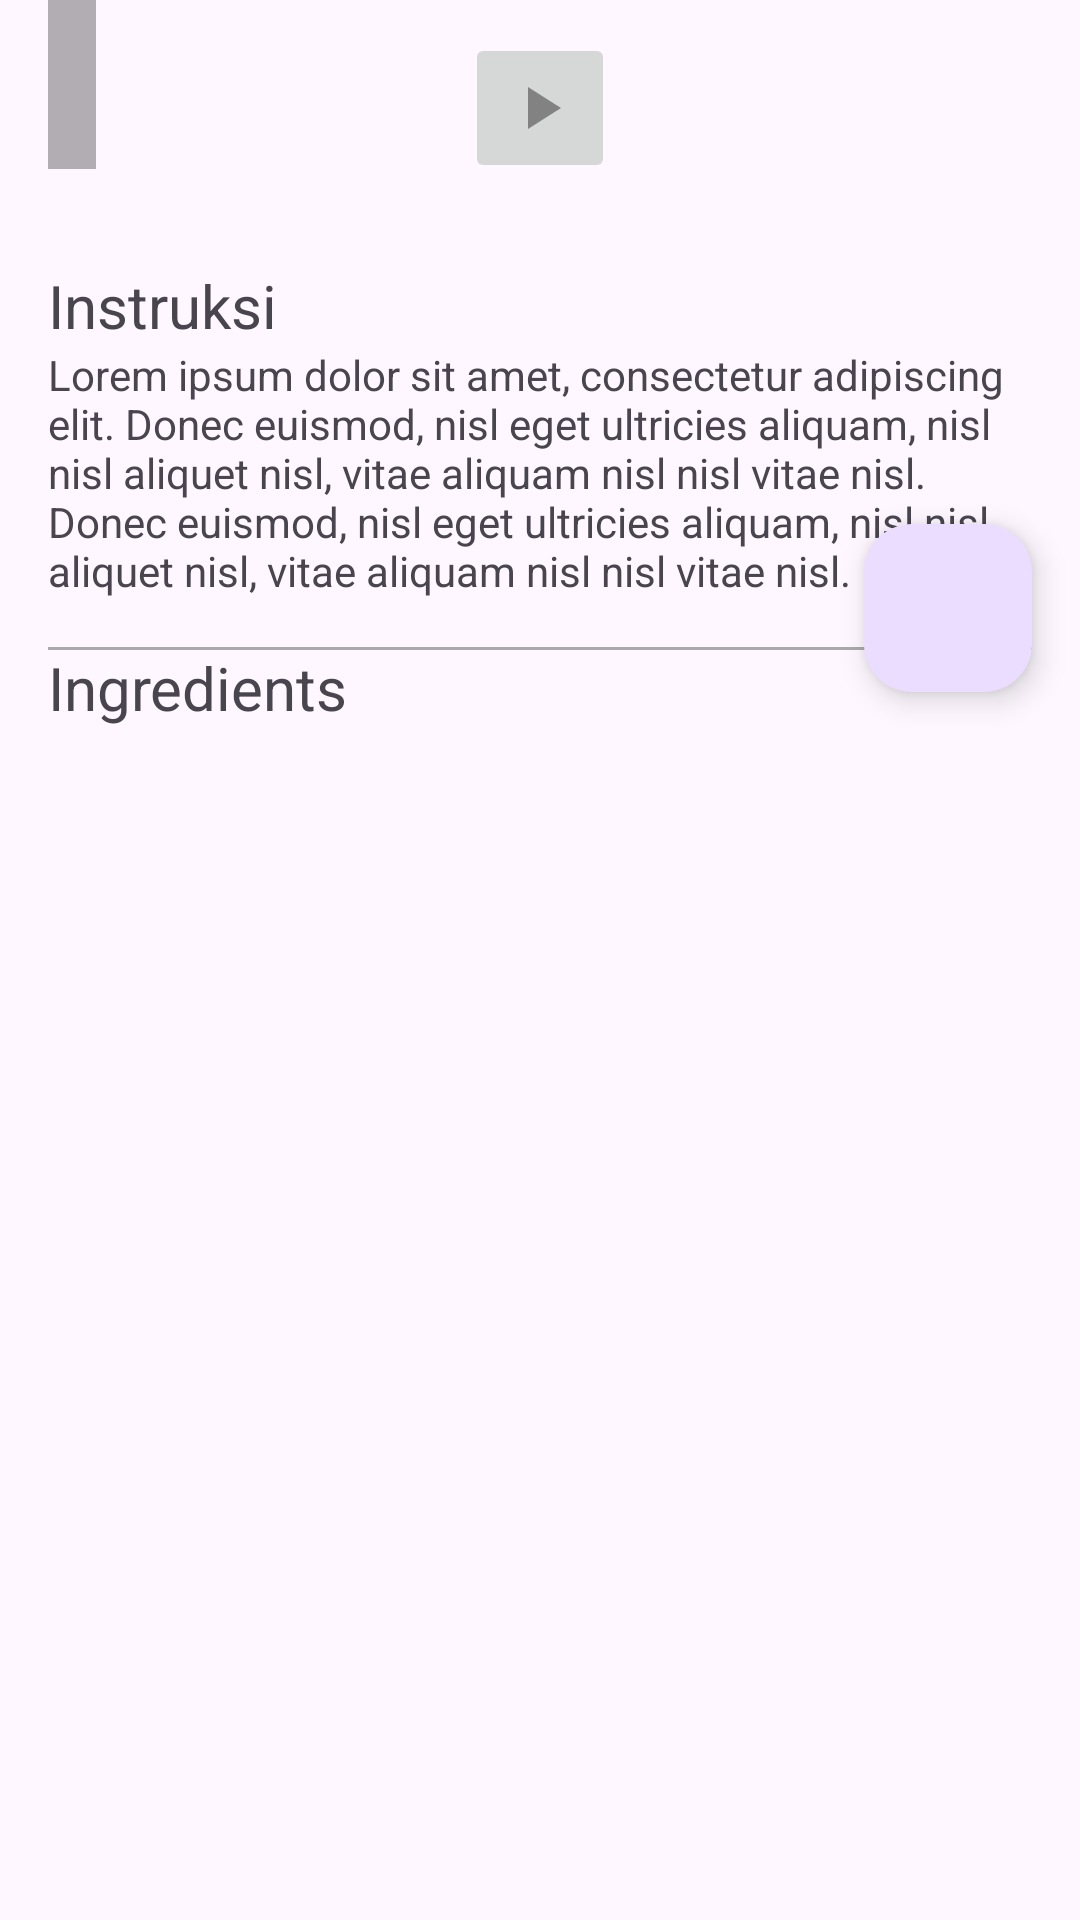

Icon bounding boxes for this 1080 x 1920 phone screenshot, format (x1, y1, x2, y2):
Play Video: (477, 51, 603, 165)
